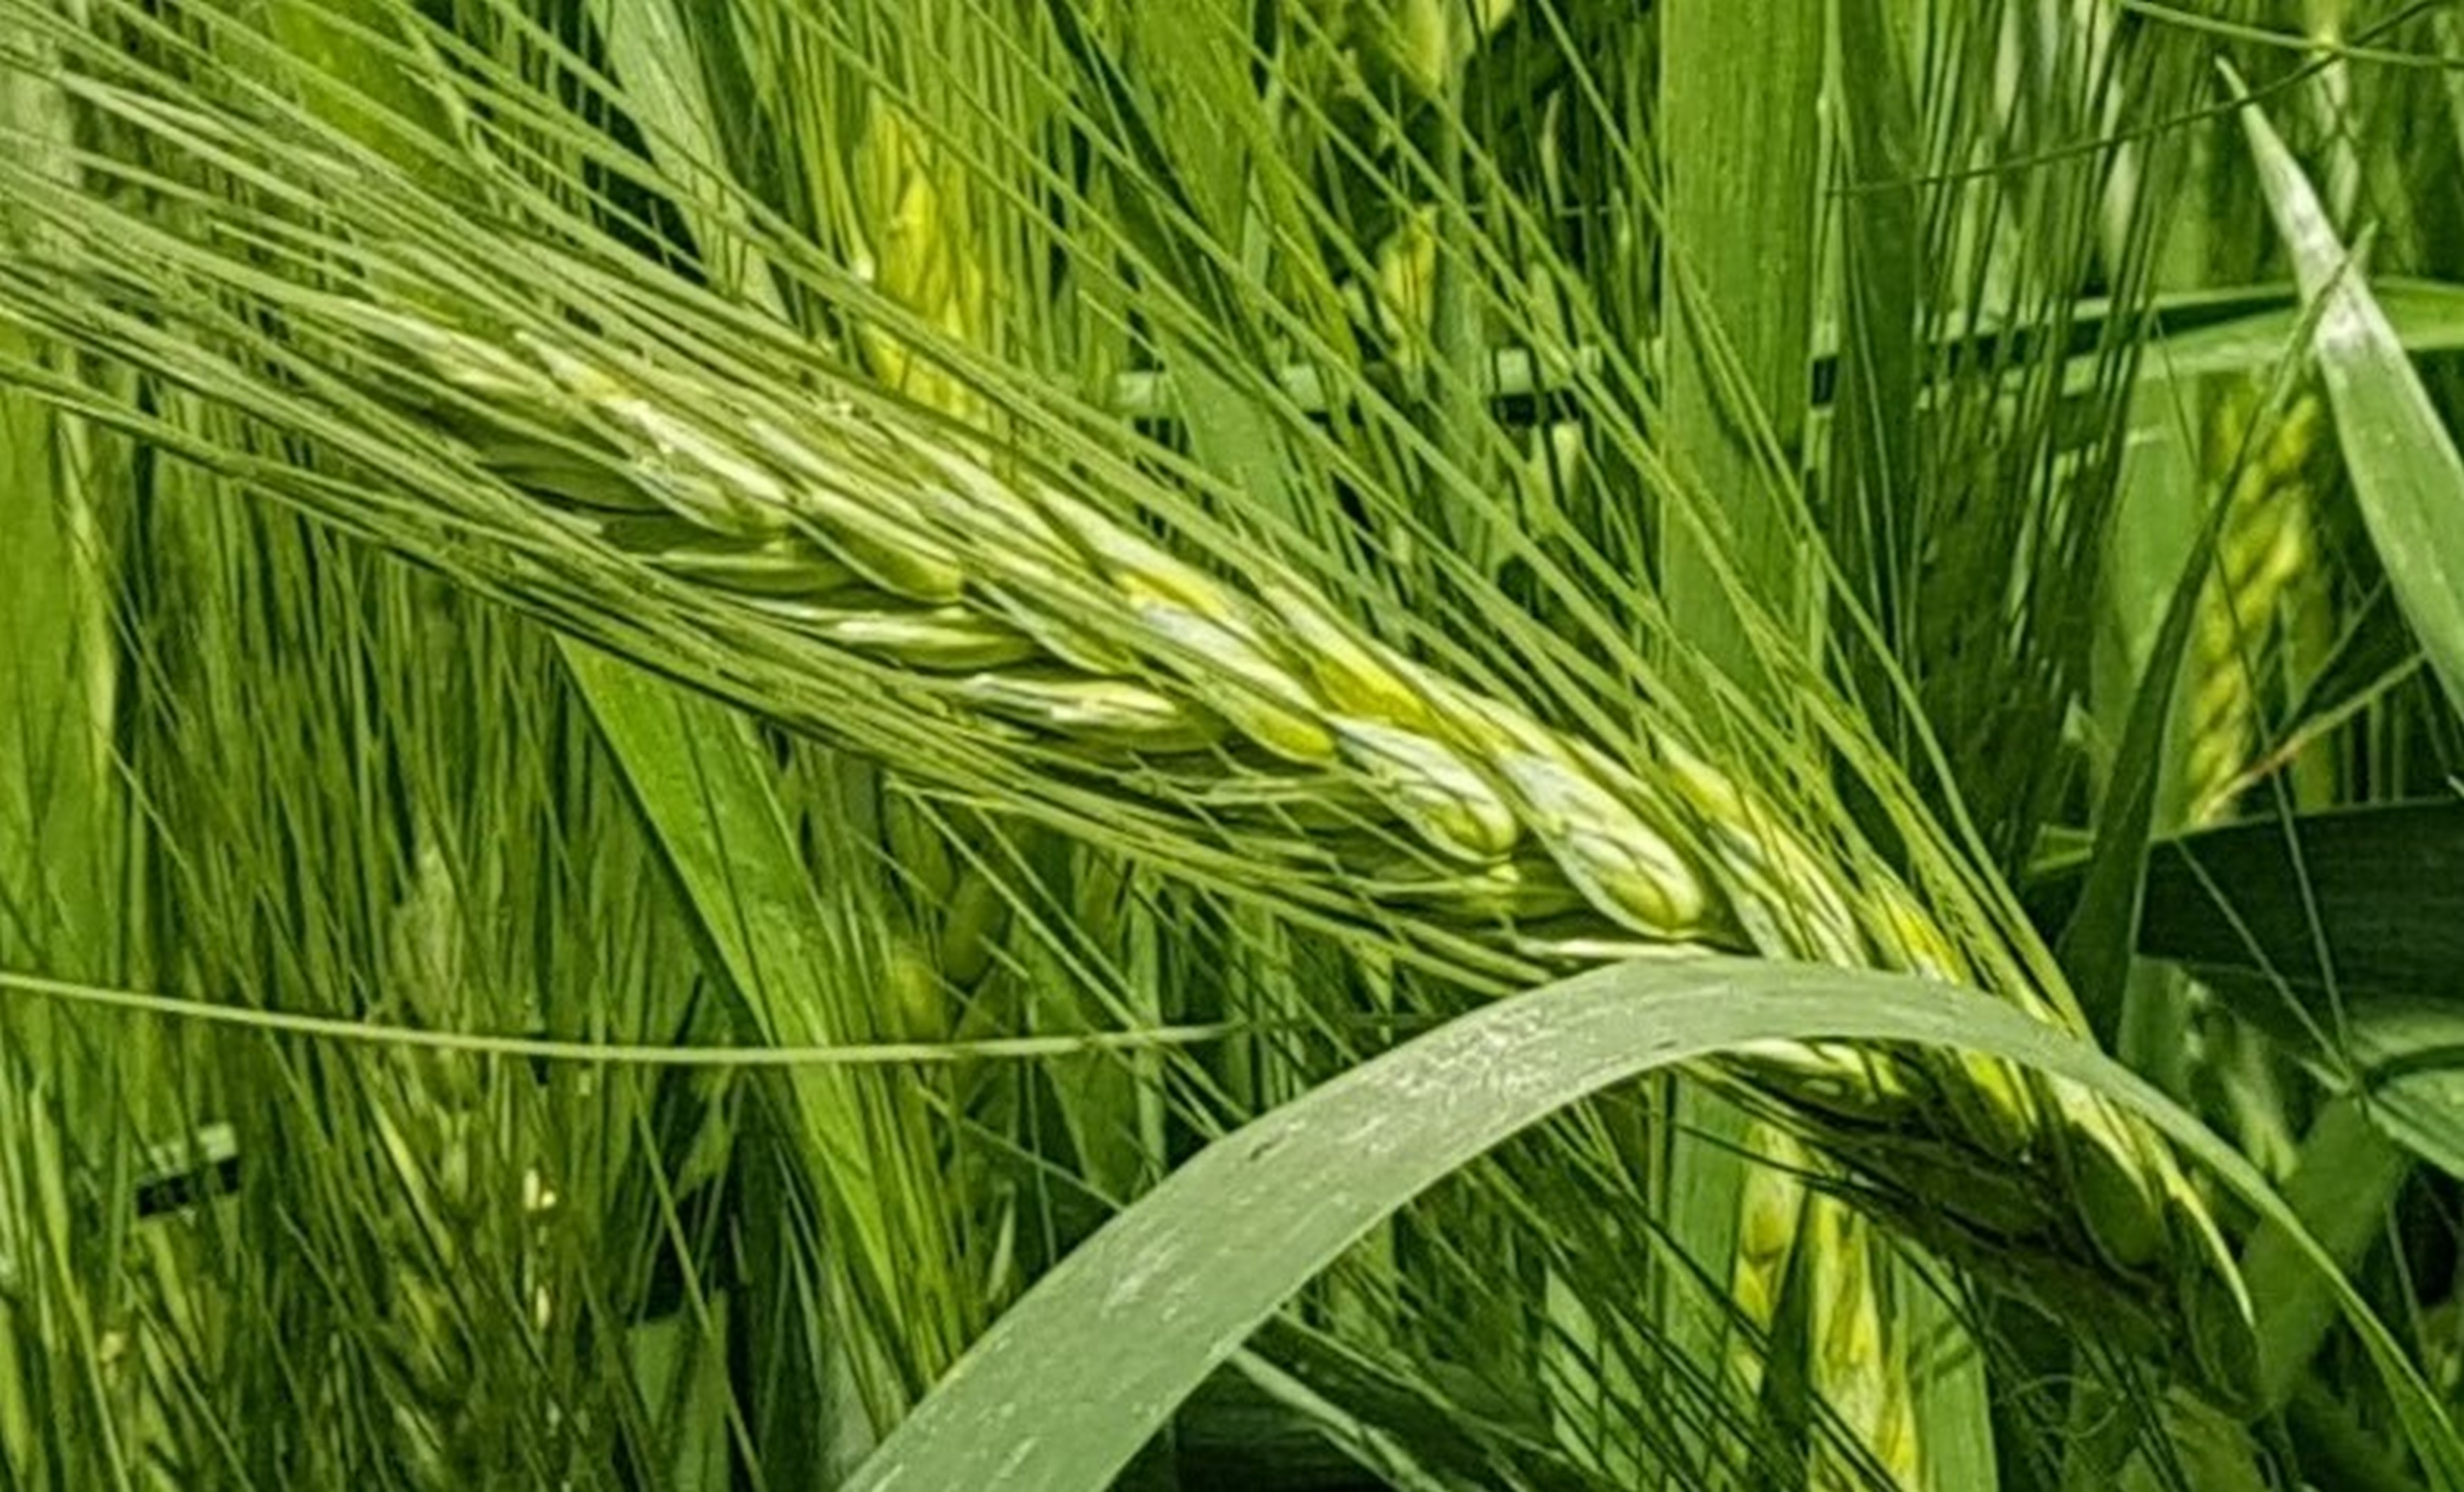Healthy Wheat: (322, 230, 2248, 1313)
